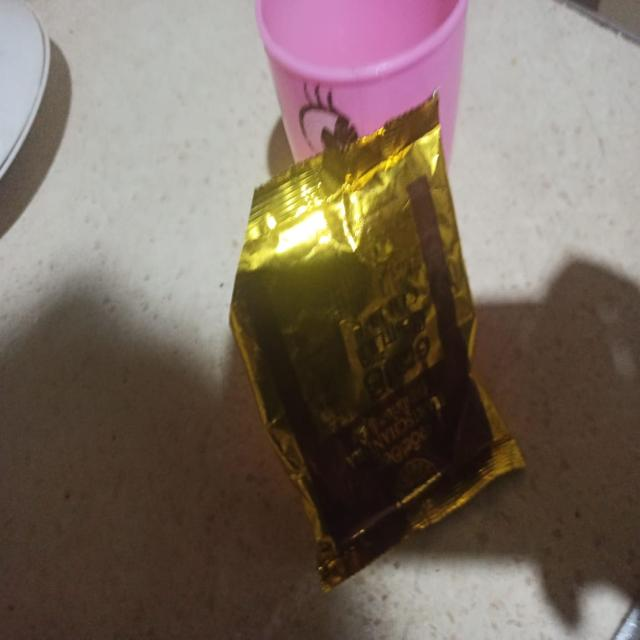Harischandra Coffee: (200, 140, 494, 572)
